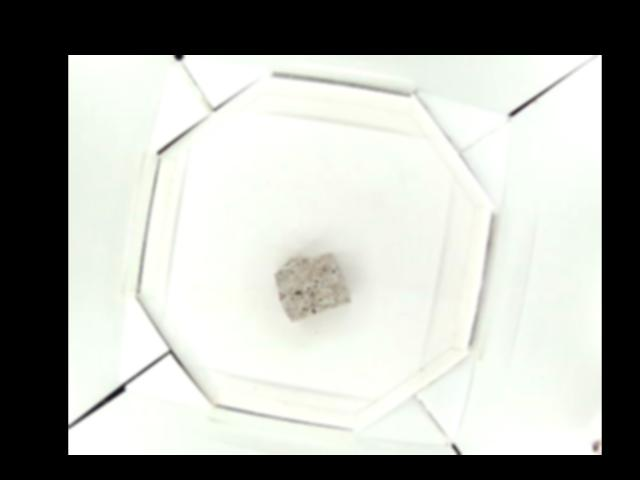China: (277, 250, 350, 320)
